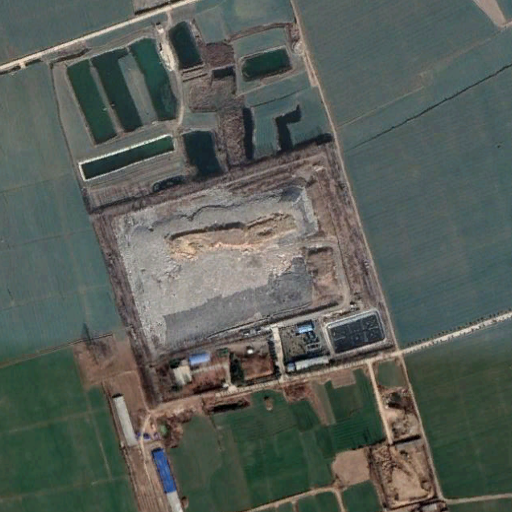lf: (106, 160, 353, 363)
